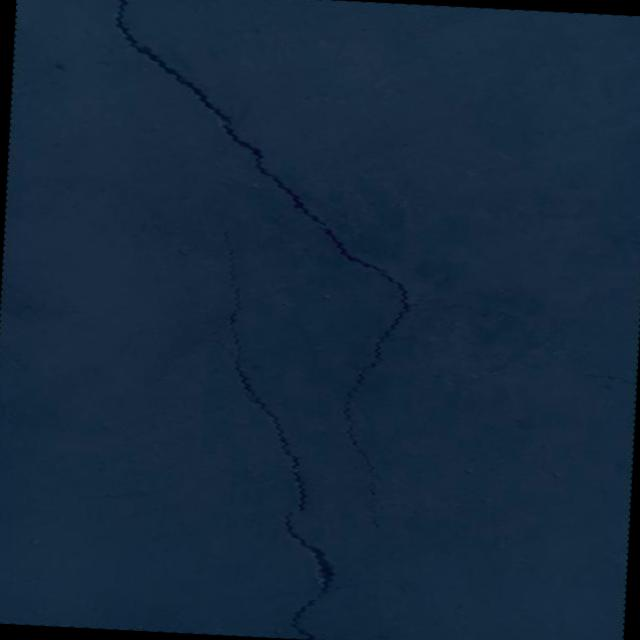crack: (87, 0, 502, 534), (195, 231, 351, 640), (484, 352, 638, 386)
